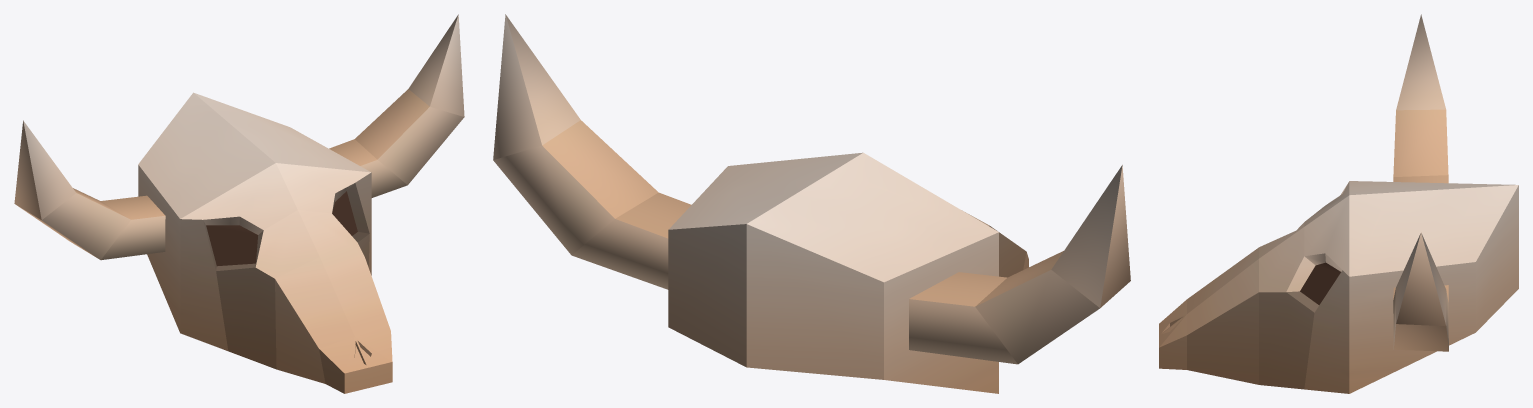
Rendered from decor_003.fbx.
3 views of the same model, side by side, from view 1: azimuth 30°, elevation 25°; view 2: azimuth 150°, elevation 25°; view 3: azimuth 270°, elevation 25° (orthographic). The views are drawn at different scales.
Parts seen in each view (by area): view 1: decor_003; view 2: decor_003; view 3: decor_003.
Part boxes in pixels (bbox=[...]): decor_003: bbox=[14, 14, 464, 393]; decor_003: bbox=[493, 14, 1130, 393]; decor_003: bbox=[1159, 14, 1518, 393].
Size of the model in its own units: 171 by 87.86 by 119.
